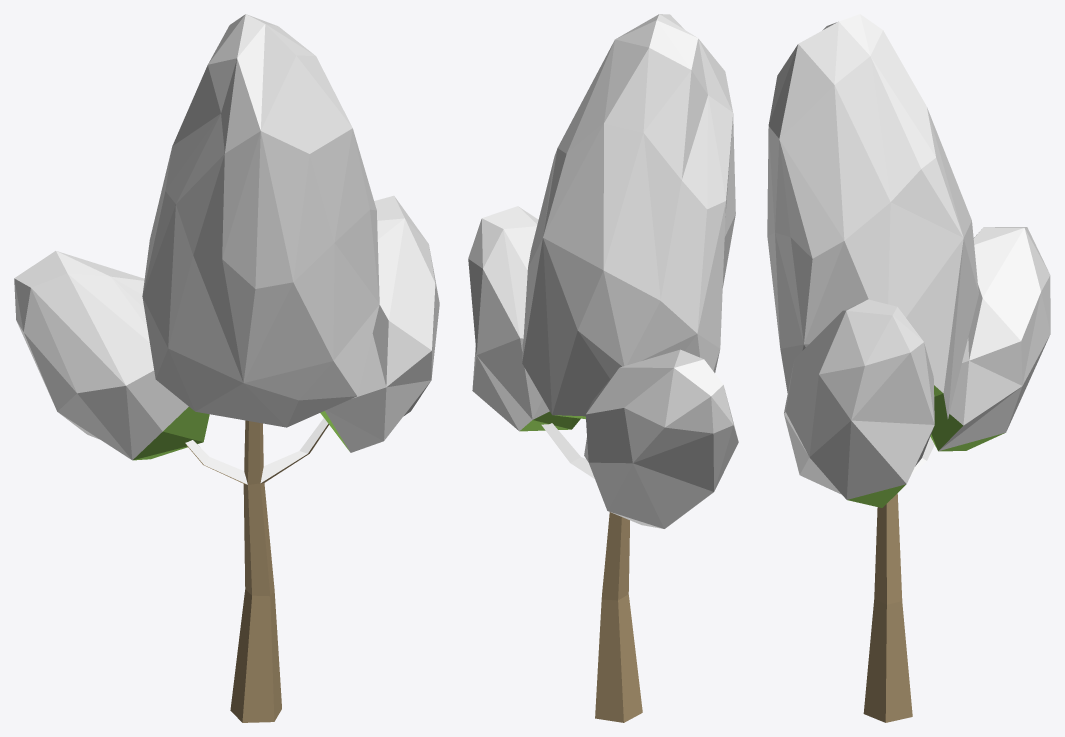
Rendered from Random_Tree_m_Snow_05_LOD.fbx.
The picture shows the model from 3 angles, left to right: view 1: azimuth 30°, elevation 25°; view 2: azimuth 150°, elevation 25°; view 3: azimuth 270°, elevation 25°; orthographic projection. The views are drawn at different scales.
Visible parts, largest first — view 1: Random_Tree_m_Snow_05_LOD0; view 2: Random_Tree_m_Snow_05_LOD0; view 3: Random_Tree_m_Snow_05_LOD0.
Boxes of the visible parts, bbox=[...] form: Random_Tree_m_Snow_05_LOD0: bbox=[14, 14, 439, 722]; Random_Tree_m_Snow_05_LOD0: bbox=[468, 14, 738, 722]; Random_Tree_m_Snow_05_LOD0: bbox=[767, 14, 1050, 722].
Size of what is drawn, in the model's own units: 497 by 999 by 374.
